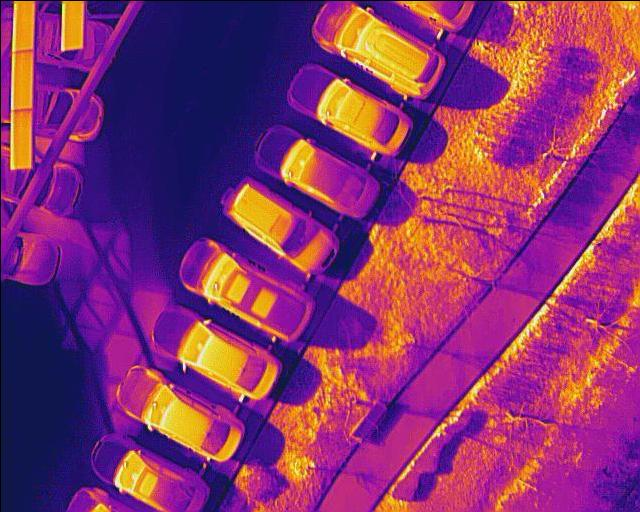No-Anomaly: (7, 109, 32, 170), (9, 50, 32, 109), (9, 0, 33, 50)
